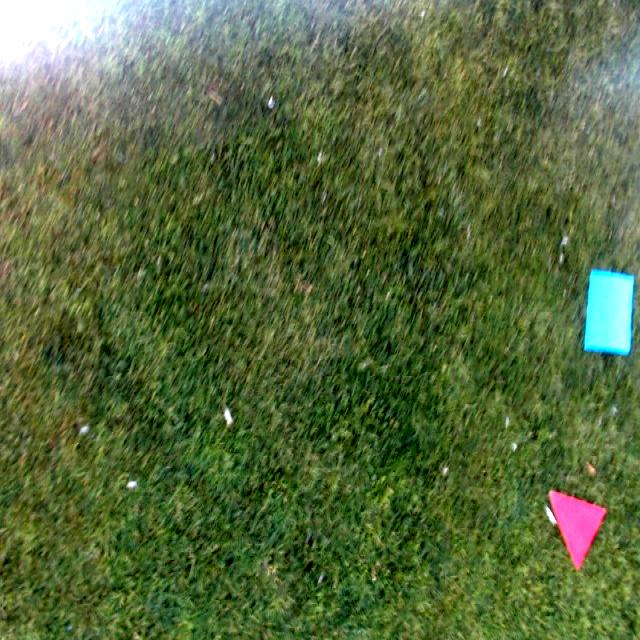blue_square: (584, 270, 634, 358)
red_triangle: (549, 485, 603, 571)
